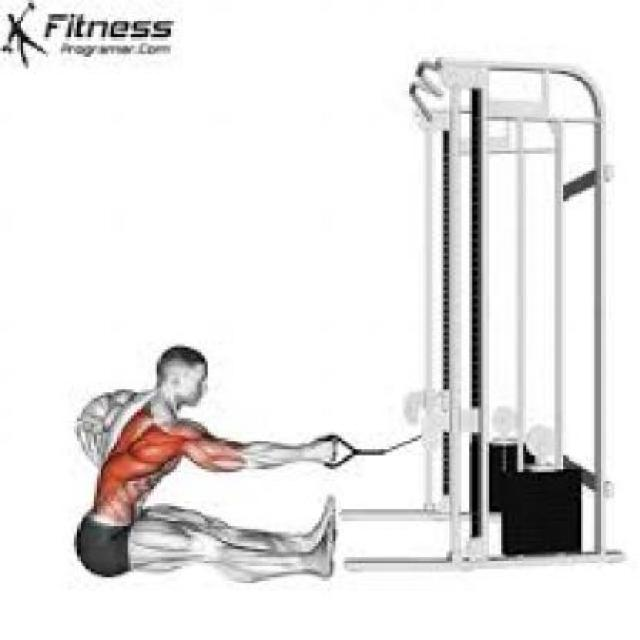Seated Cable Rows: (68, 38, 620, 584)
